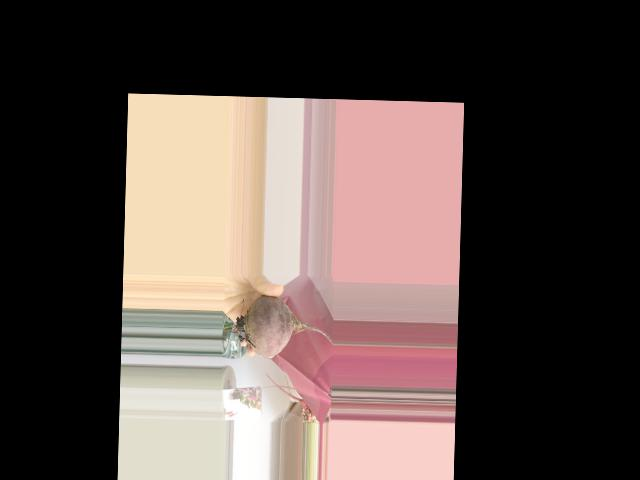beet: (221, 294, 333, 359)
